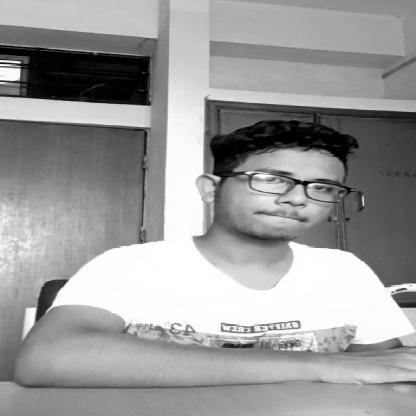Normal: (195, 120, 372, 236)
